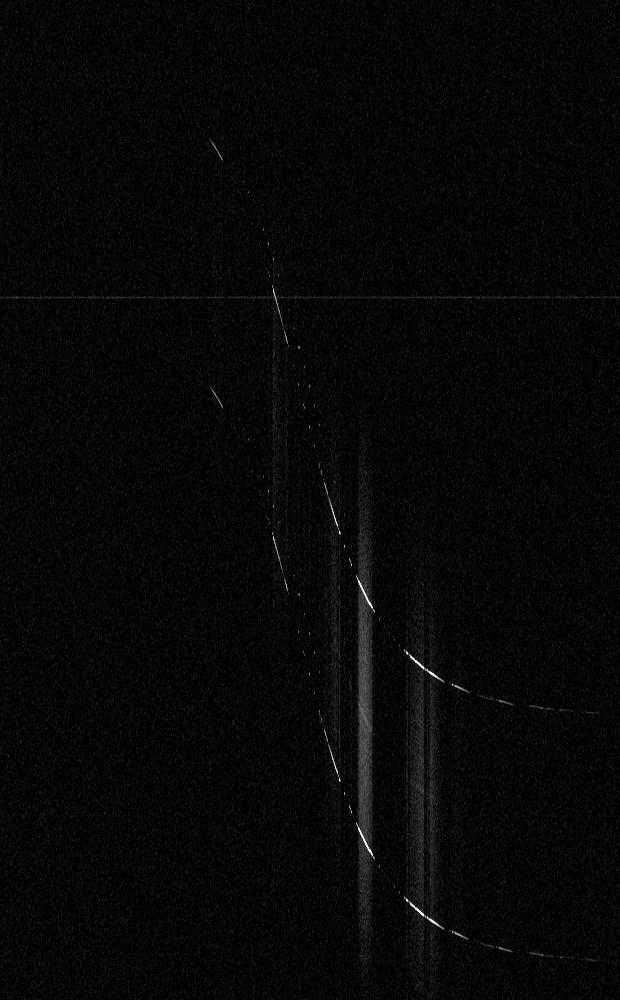signal: (0, 0, 619, 999)
